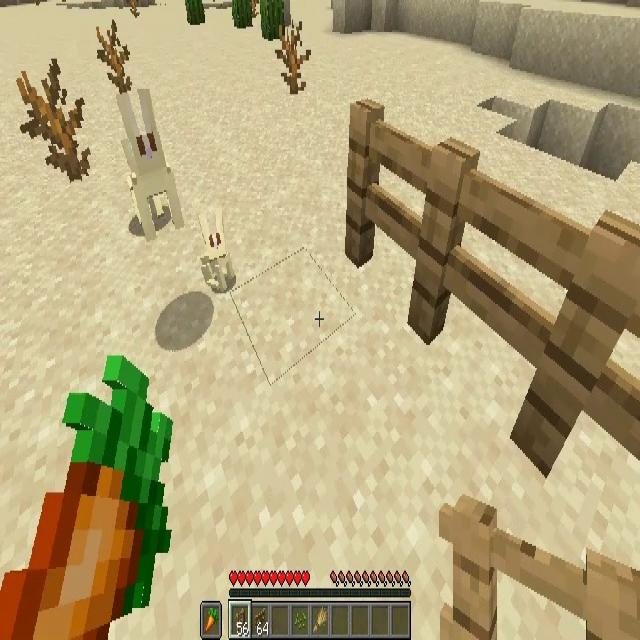rabbit: (122, 106, 182, 232), (200, 209, 232, 292)
